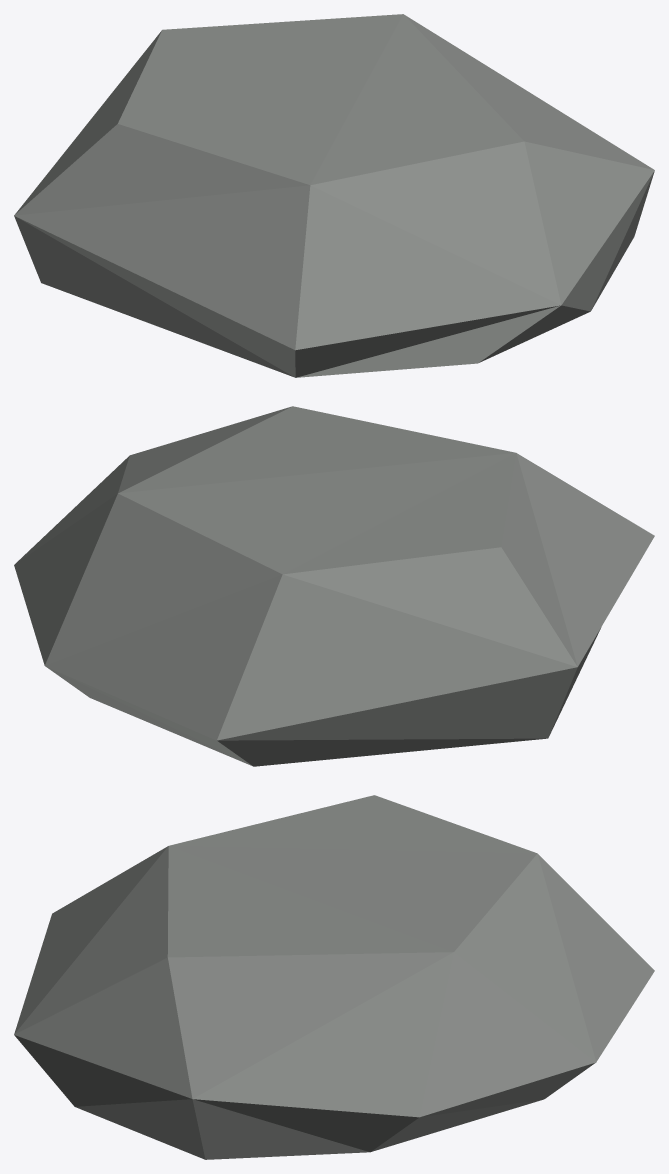
Rendered from SM_rock_01.gltf.
The picture shows the model from 3 angles, top to bottom: view 1: azimuth 30°, elevation 25°; view 2: azimuth 150°, elevation 25°; view 3: azimuth 270°, elevation 25°; orthographic projection. The views are drawn at different scales.
Parts seen in each view (by area): view 1: SM_rock_01; view 2: SM_rock_01; view 3: SM_rock_01.
Part boxes in pixels (x1,y1,x2,y2): SM_rock_01: (14, 14, 654, 377); SM_rock_01: (14, 406, 654, 766); SM_rock_01: (14, 795, 654, 1159).
Size of the model in its own units: 0.2135 by 0.0608 by 0.2231.
Materials: 1 (1 with a texture image).
